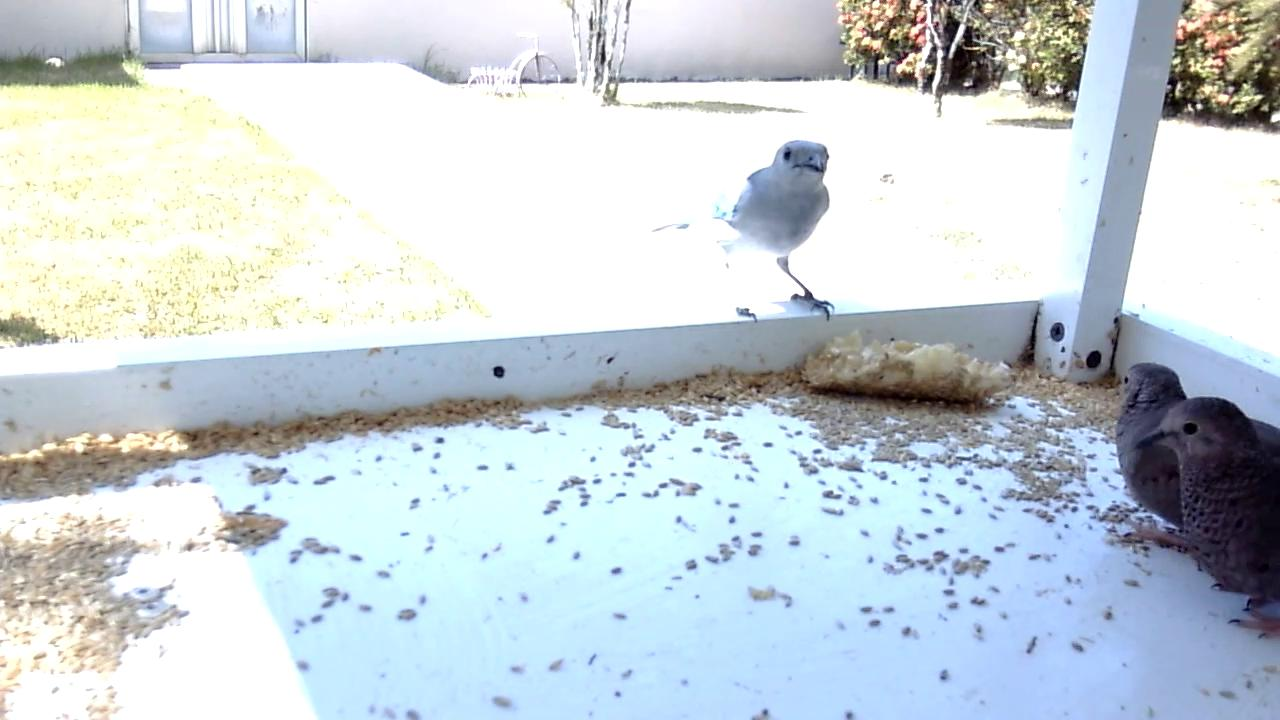rolinha: (1134, 395, 1280, 643), (1115, 361, 1280, 528)
sanhaco_da_amazonia: (647, 139, 838, 328)
